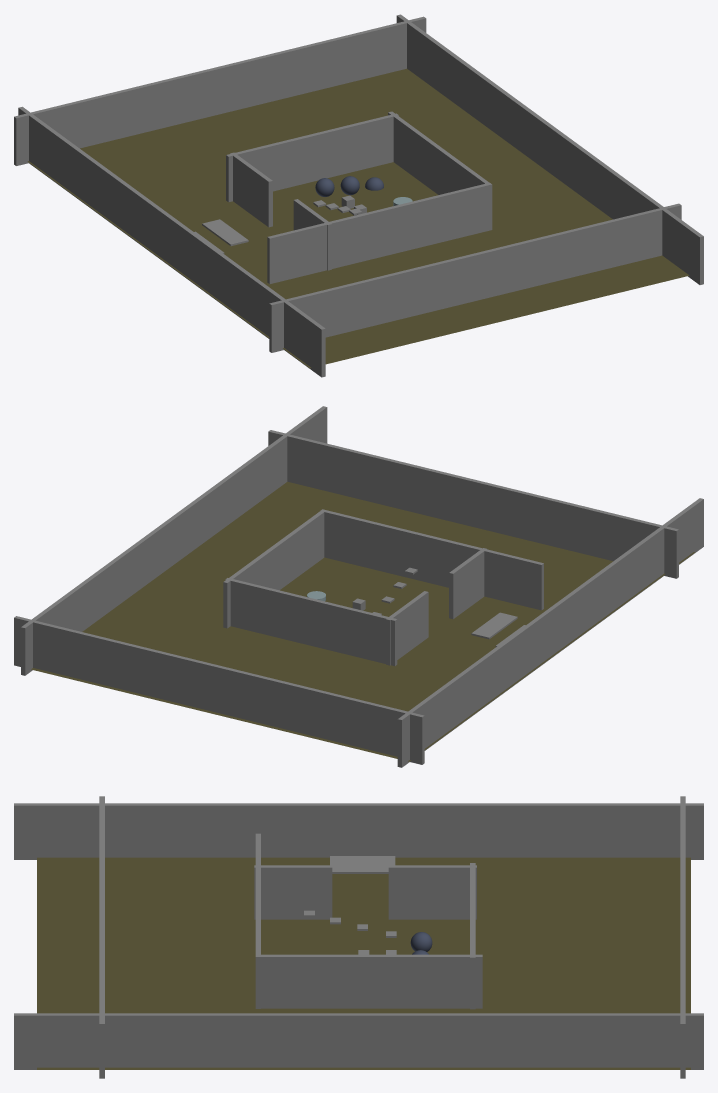
File: test_map.glb
3 views of the same model, one above another, from view 1: azimuth 30°, elevation 25°; view 2: azimuth 150°, elevation 25°; view 3: azimuth 270°, elevation 25° (orthographic). The views are drawn at different scales.
Visible parts, largest first — view 1: Wall (×9), Plane, Box; view 2: Wall (×9), Plane, Box; view 3: Wall (×9), Plane, Box (×2).
Boxes of the visible parts, x1,y1,x2,y2 form: Wall (×9): (14, 14, 703, 377); Plane: (27, 68, 689, 368); Box: (202, 219, 248, 246); Wall (×9): (14, 406, 703, 767); Plane: (31, 481, 695, 761); Box: (471, 612, 517, 639); Wall (×9): (14, 796, 703, 1078); Plane: (37, 857, 690, 1069); Box (×2): (330, 856, 395, 873).
Bounding box in the file's own units: 49.44 × 6.26 × 63.35.
